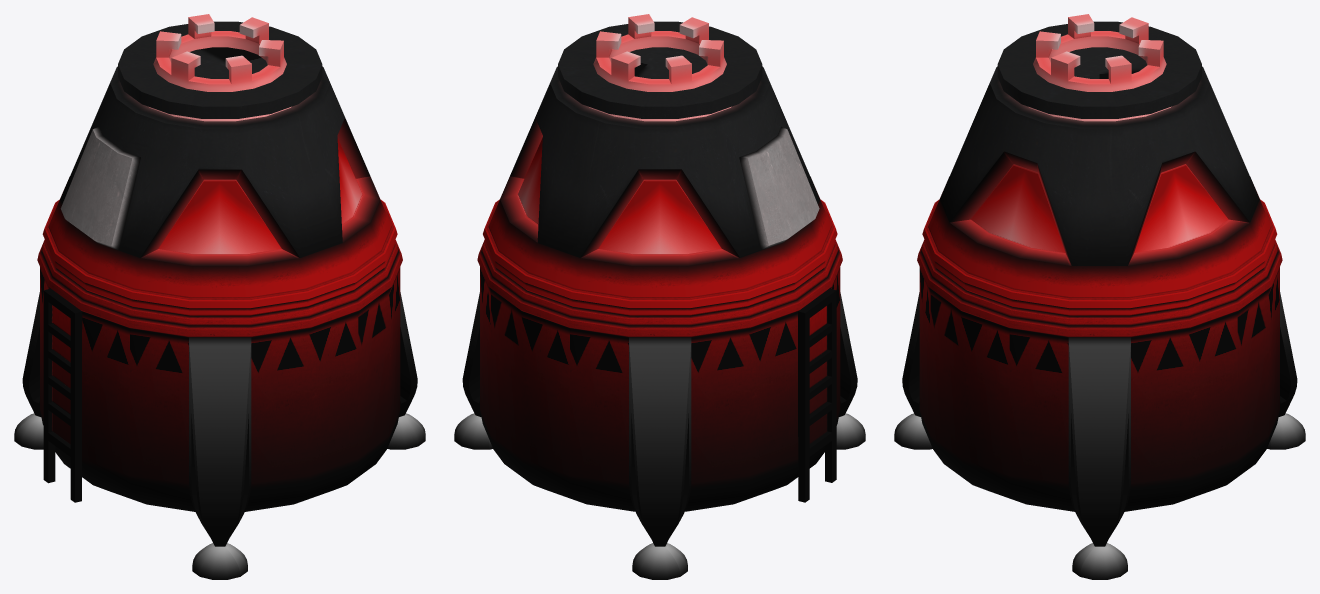
The model's file is SpaceTec01.FBX.
3 renders of one model, left to right at view 1: azimuth 30°, elevation 25°; view 2: azimuth 150°, elevation 25°; view 3: azimuth 270°, elevation 25°, orthographic.
Parts seen in each view (by area): view 1: SpaceTec01; view 2: SpaceTec01; view 3: SpaceTec01.
Boxes of the visible parts, box(x1,y1,x2,y2) form: SpaceTec01: box(14, 14, 425, 579); SpaceTec01: box(454, 14, 865, 579); SpaceTec01: box(894, 14, 1305, 579).
Size of the model in its own units: 23.25 by 26.99 by 22.83.
Materials: 1 (1 with a texture image).
